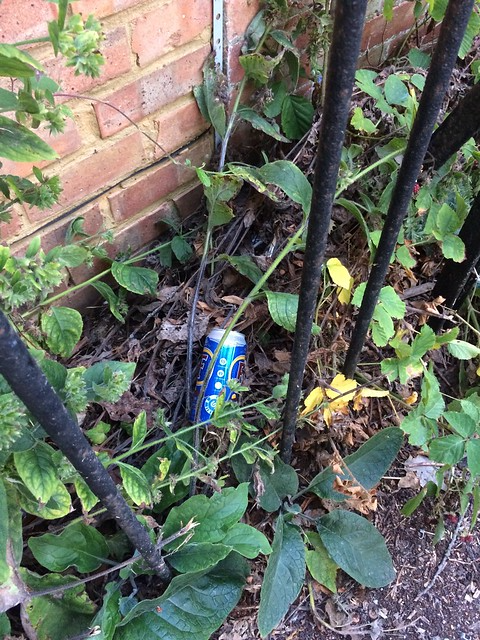can: (191, 320, 252, 434)
